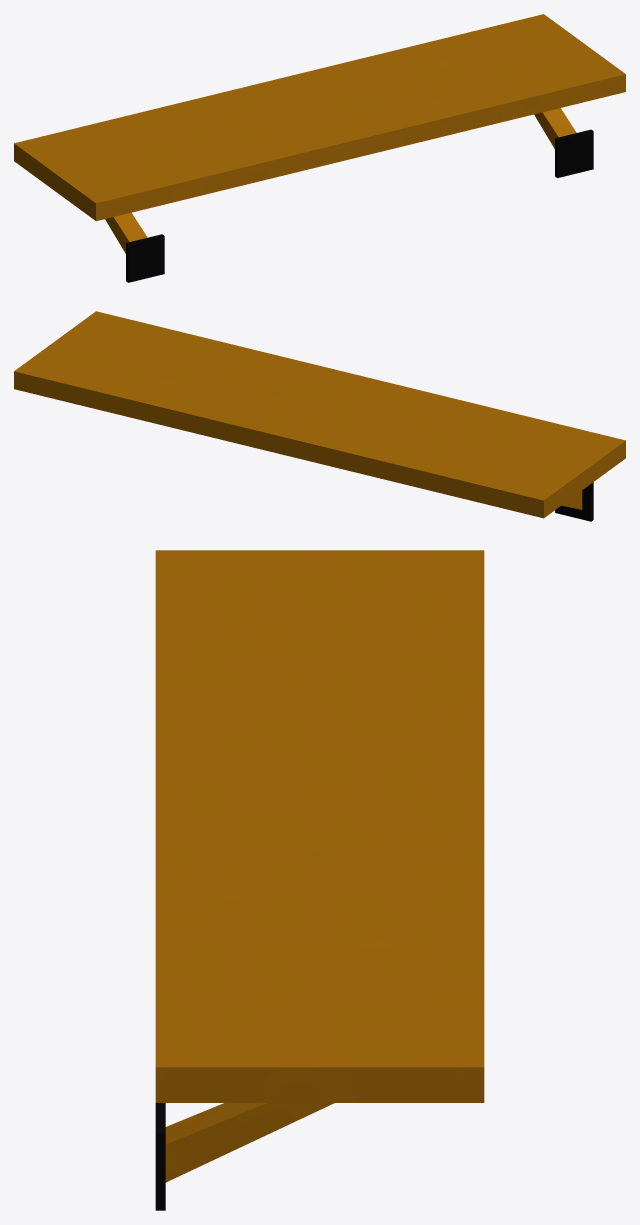
File: Shelf_4.fbx
The picture shows the model from 3 angles, top to bottom: view 1: azimuth 30°, elevation 25°; view 2: azimuth 150°, elevation 25°; view 3: azimuth 270°, elevation 25°; orthographic projection. The views are drawn at different scales.
Visible parts, largest first — view 1: Shelf 4; view 2: Shelf 4; view 3: Shelf 4.
Part boxes in pixels (x1=…): Shelf 4: x1=14, y1=14, x2=625, y2=282; Shelf 4: x1=14, y1=311, x2=625, y2=521; Shelf 4: x1=155, y1=550, x2=484, y2=1210.
Size of the model in its own units: 200 by 31.49 by 53.7.
